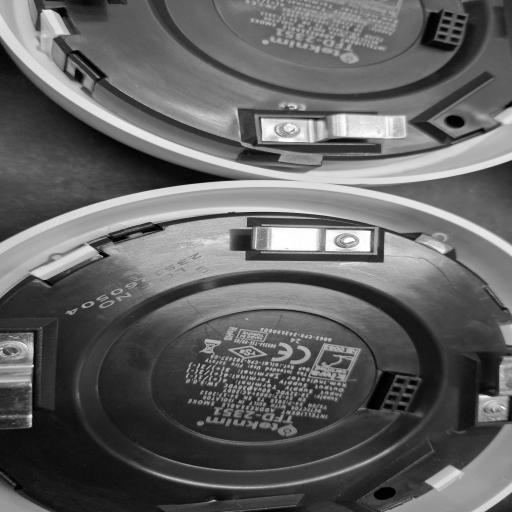konnektor: (375, 368, 429, 425), (422, 6, 482, 56)
yaysiz: (238, 98, 418, 160), (212, 217, 391, 264)
